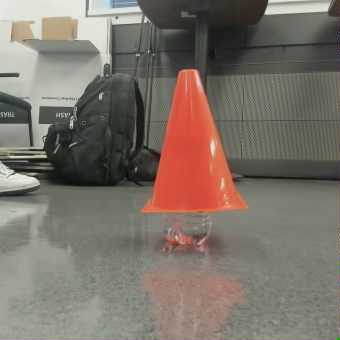Cone: (141, 66, 241, 210)
